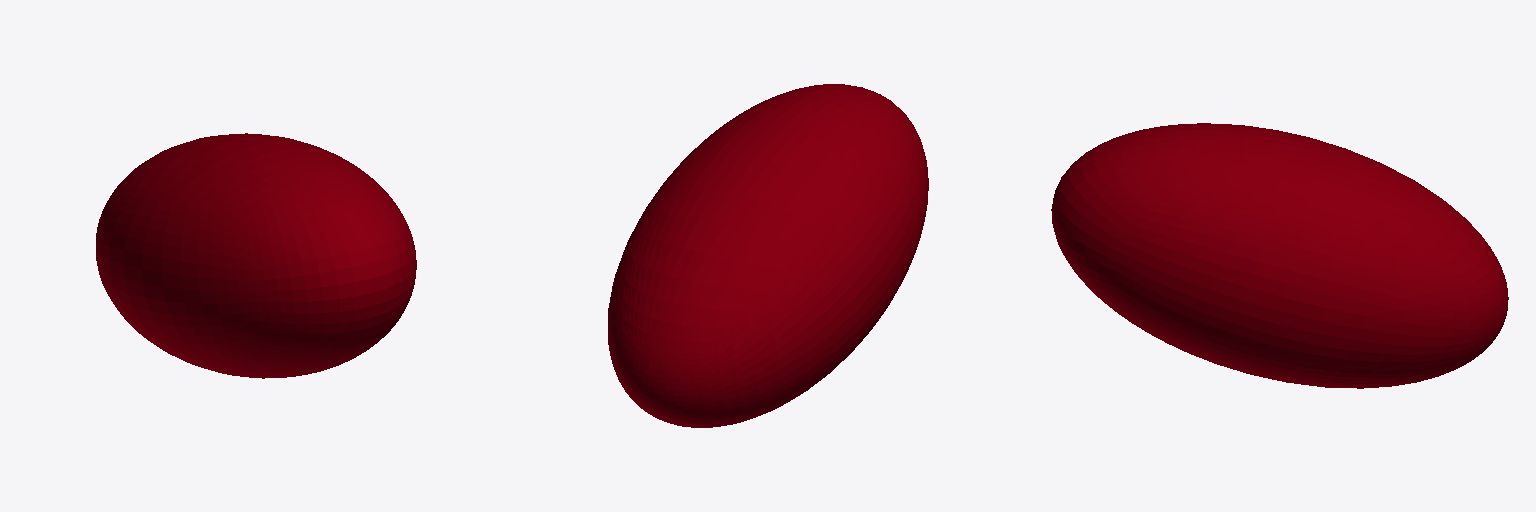
Rendered from Pata2.obj.
3 views of the same model, side by side, from view 1: azimuth 30°, elevation 25°; view 2: azimuth 150°, elevation 25°; view 3: azimuth 270°, elevation 25° (orthographic).
Parts seen in each view (by area): view 1: Cube.001; view 2: Cube.001; view 3: Cube.001.
Boxes of the visible parts, <box> form: Cube.001: <box>96,133,416,378</box>; Cube.001: <box>608,84,928,427</box>; Cube.001: <box>1051,123,1508,388</box>.
Size of the model in its own units: 0.9073 by 0.9257 by 1.59.